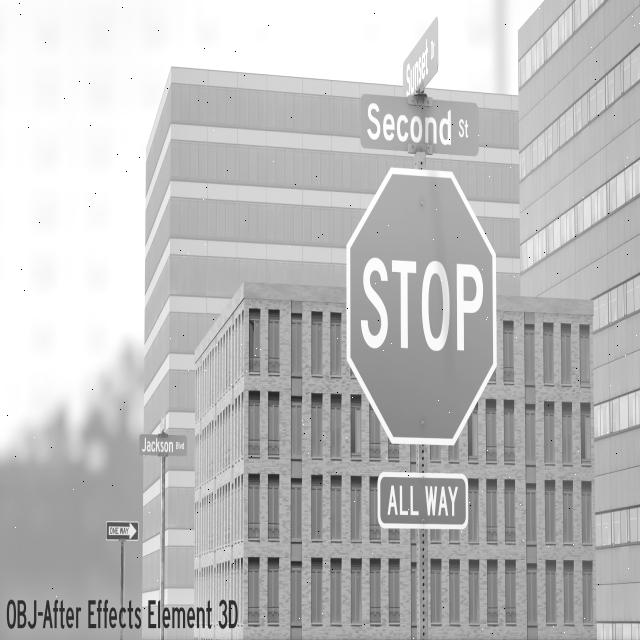Stop-sign: (343, 158, 505, 449)
